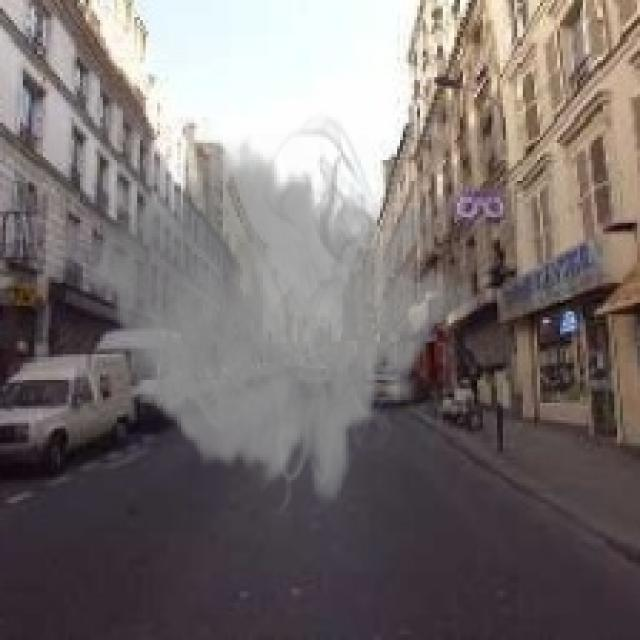smoke: (86, 109, 477, 520)
